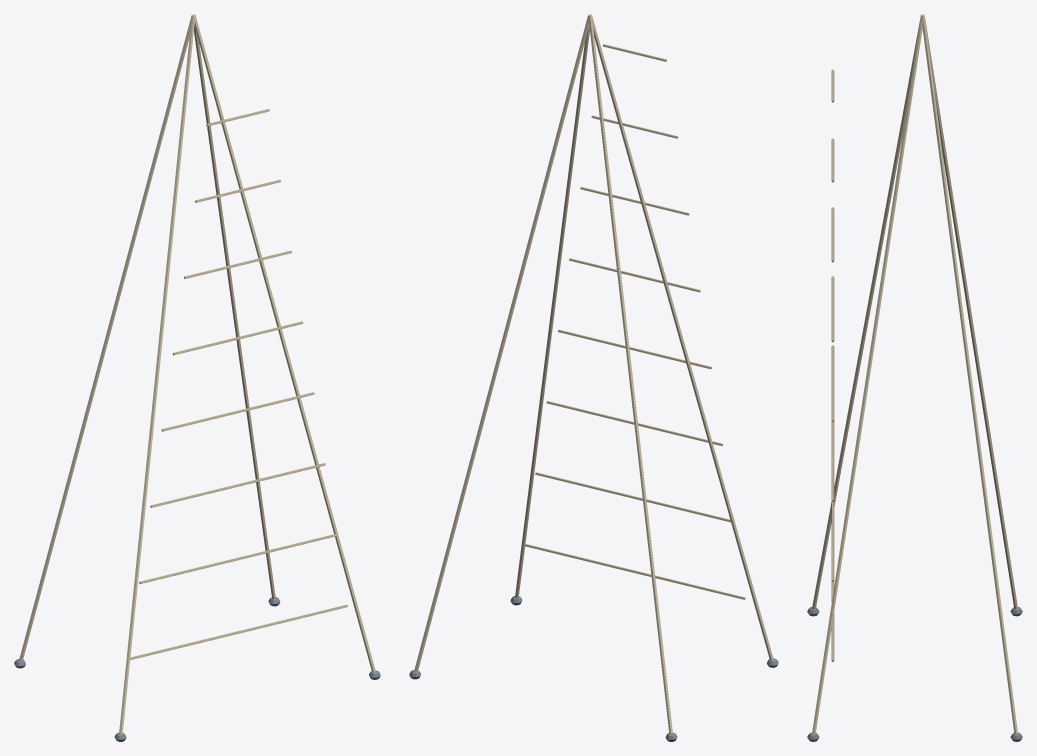
The model's file is jarcias.glb.
3 renders of one model, left to right at view 1: azimuth 30°, elevation 25°; view 2: azimuth 150°, elevation 25°; view 3: azimuth 270°, elevation 25°, orthographic.
Parts seen in each view (by area): view 1: jarcias; view 2: jarcias; view 3: jarcias.
Boxes of the visible parts, x1,y1,x2,y2 form: jarcias: (14, 14, 380, 741); jarcias: (409, 14, 778, 741); jarcias: (807, 14, 1022, 741).
Bounding box in the file's own units: 3.96 × 9.37 × 2.76.
